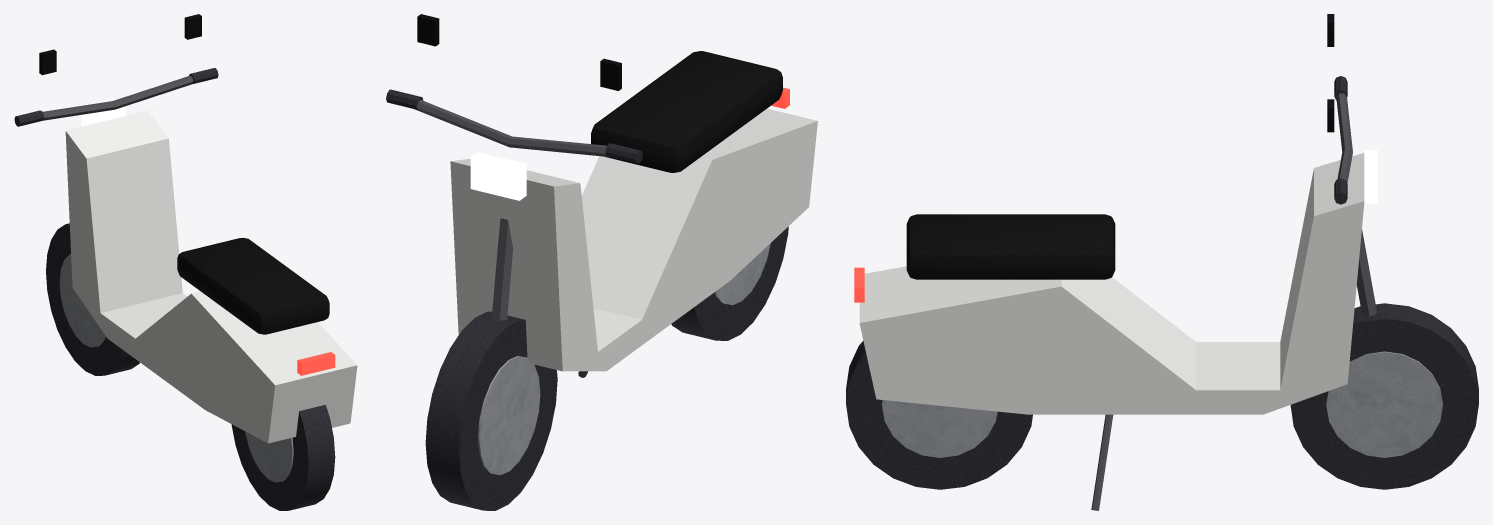
File: scooter_white.gltf
The picture shows the model from 3 angles, left to right: view 1: azimuth 30°, elevation 25°; view 2: azimuth 150°, elevation 25°; view 3: azimuth 270°, elevation 25°; orthographic projection. The views are drawn at different scales.
Parts seen in each view (by area): view 1: scooter_white; view 2: scooter_white; view 3: scooter_white.
Part boxes in pixels (box(x1,y1,x2,y2)): scooter_white: box(14, 14, 357, 510); scooter_white: box(386, 14, 817, 510); scooter_white: box(846, 14, 1478, 510).
Bounding box in the file's own units: 0.82 × 1.38 × 1.88.
Materials: 9 (6 with a texture image).
